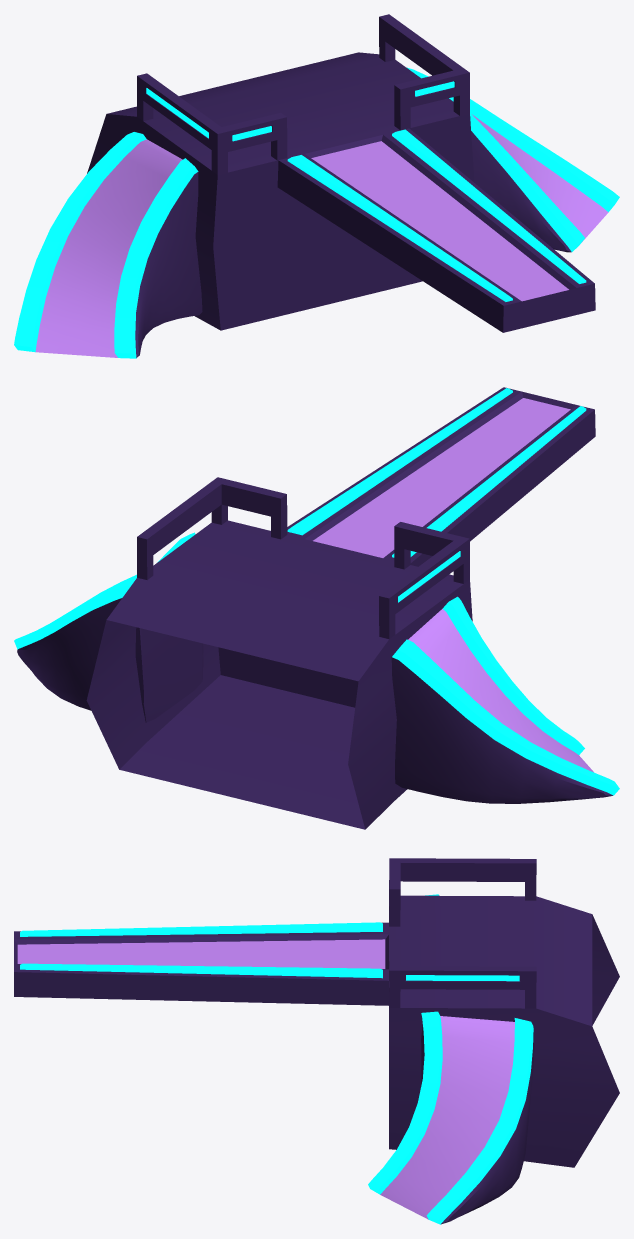
File: RAMPA.fbx
The picture shows the model from 3 angles, top to bottom: view 1: azimuth 30°, elevation 25°; view 2: azimuth 150°, elevation 25°; view 3: azimuth 270°, elevation 25°; orthographic projection. The views are drawn at different scales.
Parts seen in each view (by area): view 1: Escenarios; view 2: Escenarios; view 3: Escenarios.
Boxes of the visible parts, x1=… form: Escenarios: x1=14, y1=14, x2=619, y2=358; Escenarios: x1=14, y1=387, x2=619, y2=829; Escenarios: x1=14, y1=858, x2=619, y2=1224.
Size of the model in its own units: 5326 by 1828 by 5054.
